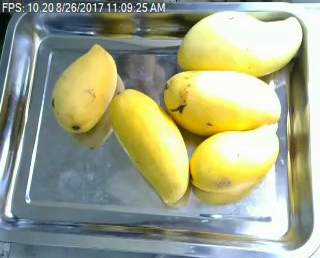Mango: (105, 88, 192, 205), (176, 8, 304, 71), (160, 68, 280, 131), (188, 121, 283, 199), (50, 43, 120, 136)
